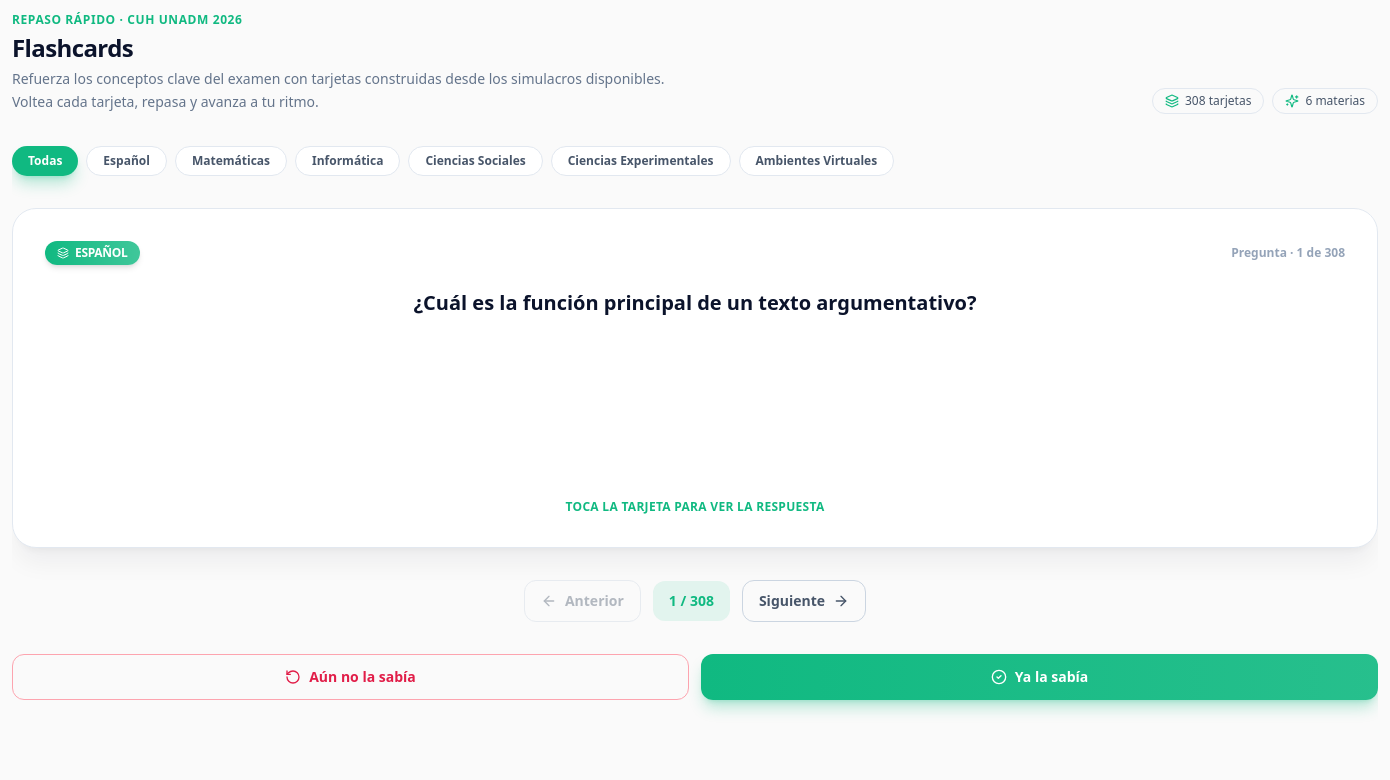
Test case: Flashcards module smoke render › filters the deck by category
Click the button "Matemáticas": (231, 160) [175,146,287,176]
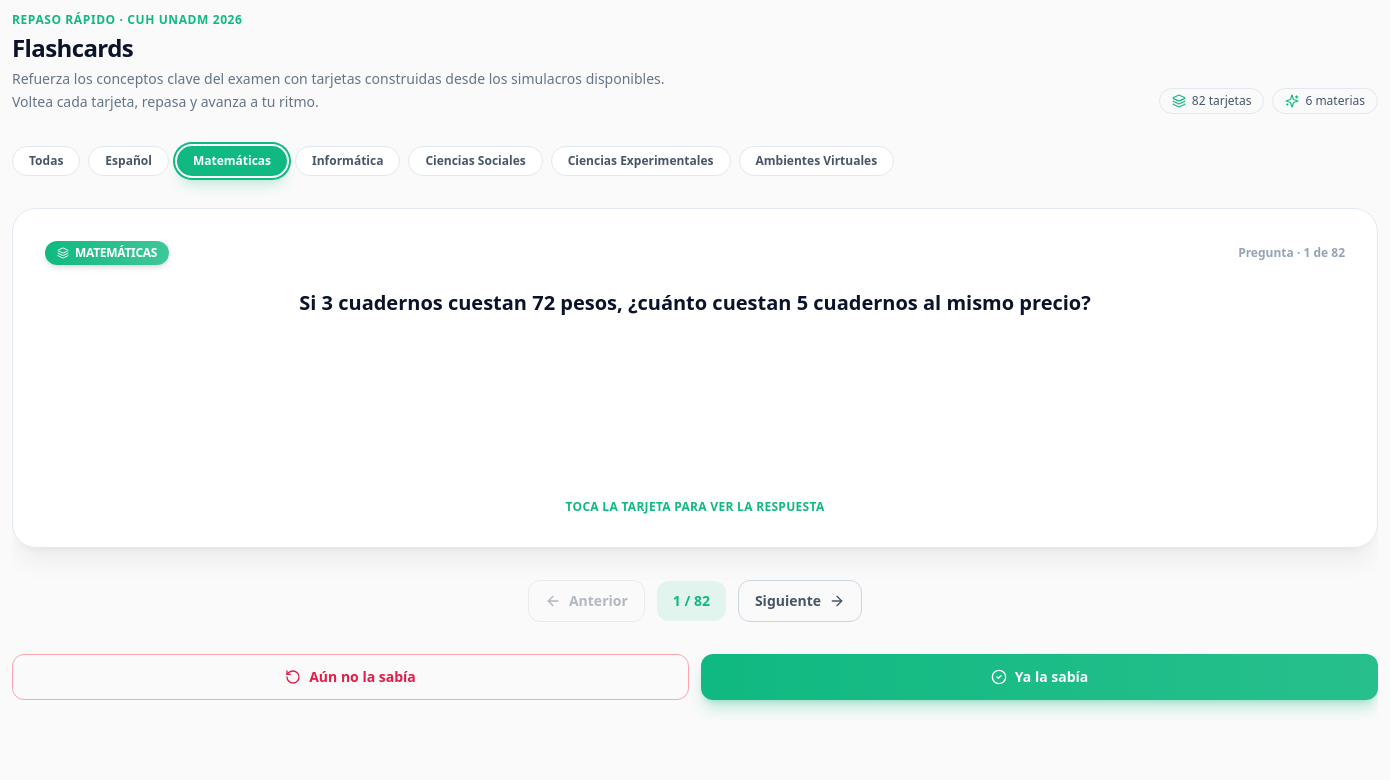
Expected: the text "1 / 82" is shown, [657,580,726,620]
Now the text "/ 308" is gone
